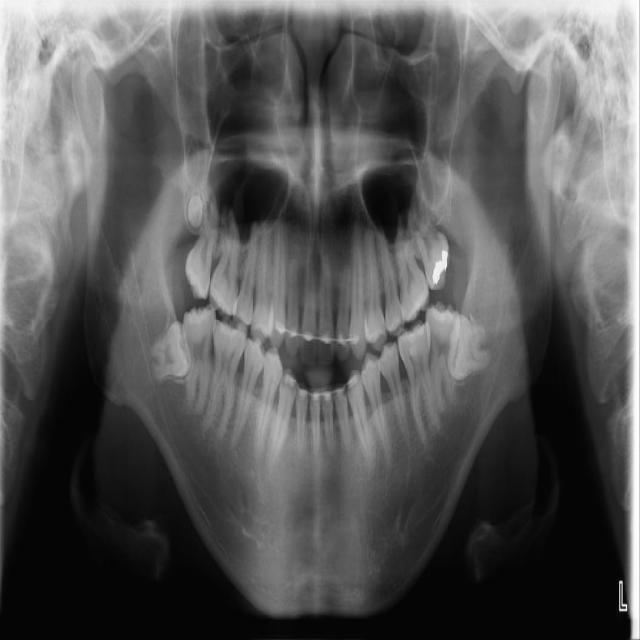Filling: (430, 249, 451, 284)
impacted tooth: (451, 312, 497, 379), (146, 321, 192, 382)
